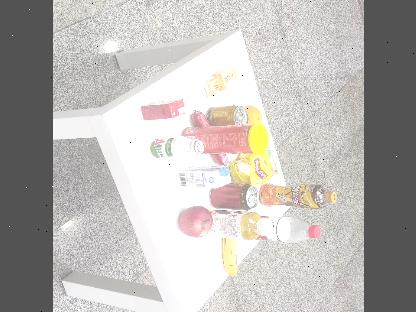Can: (210, 184, 258, 210), (204, 104, 248, 128)
Others: (180, 122, 268, 154), (138, 95, 188, 125), (176, 165, 232, 191)
Plastic Bottle: (249, 214, 325, 246)
